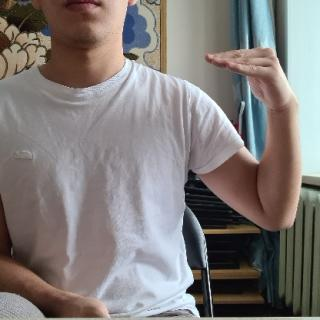HAA: (203, 43, 303, 119)
